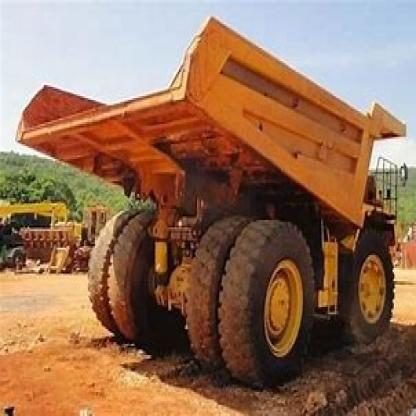dump_truck: (17, 15, 406, 373)
